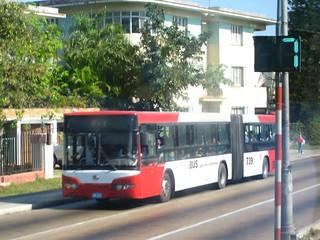bus: (61, 107, 279, 202)
